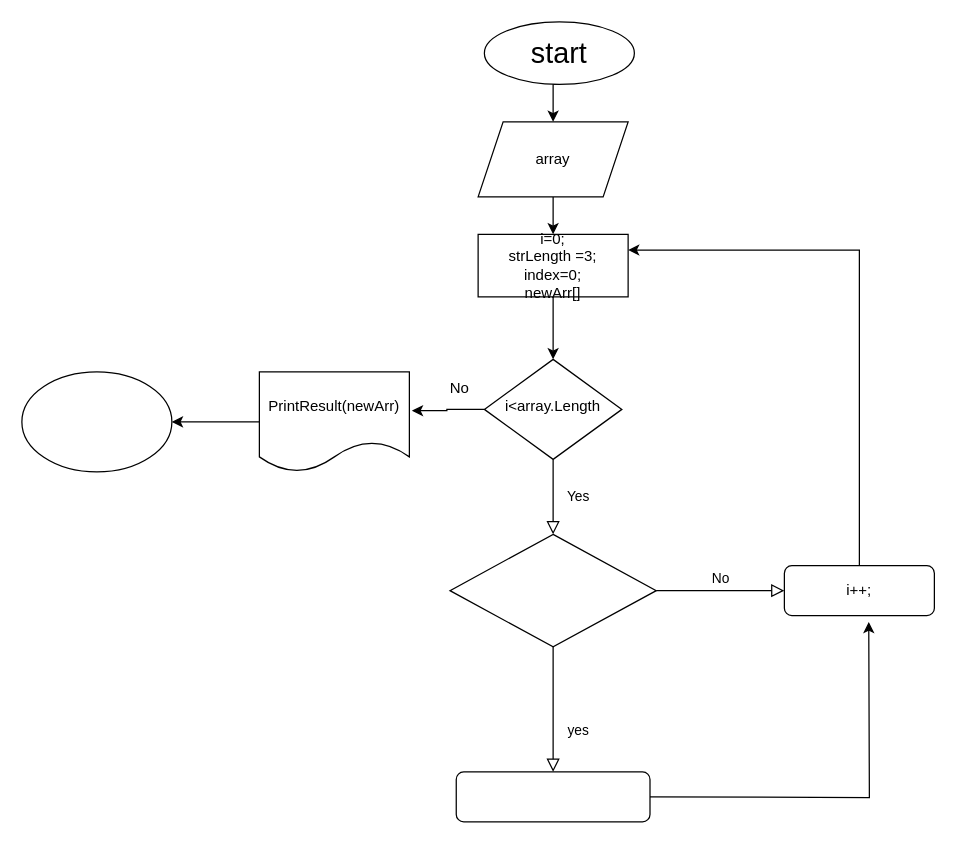
This 956x844 diagram has some shape labels left out. The shapes that lost their labels are listed below. From the top down, each one's centre as x and y in pixels, then its label:
(x=96, y=421): END
(x=552, y=590): array[i].Length<=strLength
(x=552, y=796): newArr[index]=array[i]; index++;
